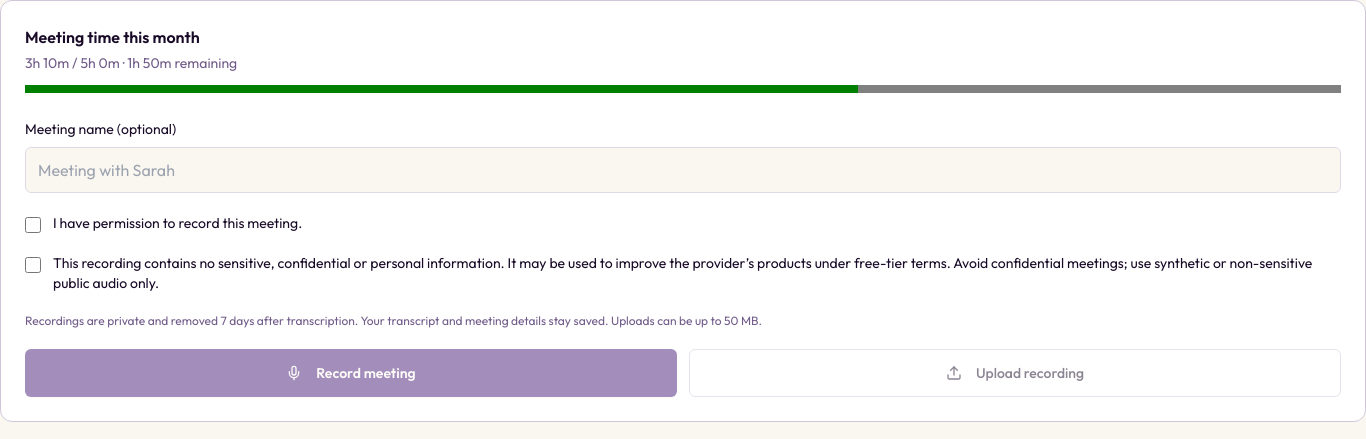
Test case: meeting capture › keeps recording and explains when live audio support is unavailable
The width and height of the screenshot is (1366, 439).
Expected: the text "3h 10m / 5h 0m · 1h 50m remaining" is shown, [25,54,237,72]
Step 1. Click the checkbox labelled "I have permission to record this meeting." → click(33, 225), box [25,217,41,233]
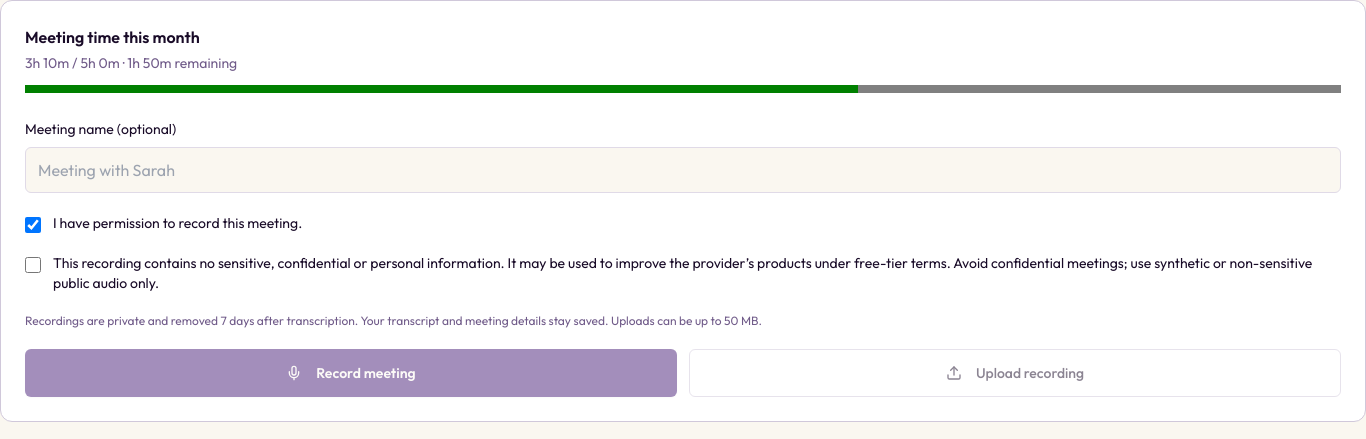
Step 2. Click the 2nd checkbox → click(33, 265), box [25,257,41,273]
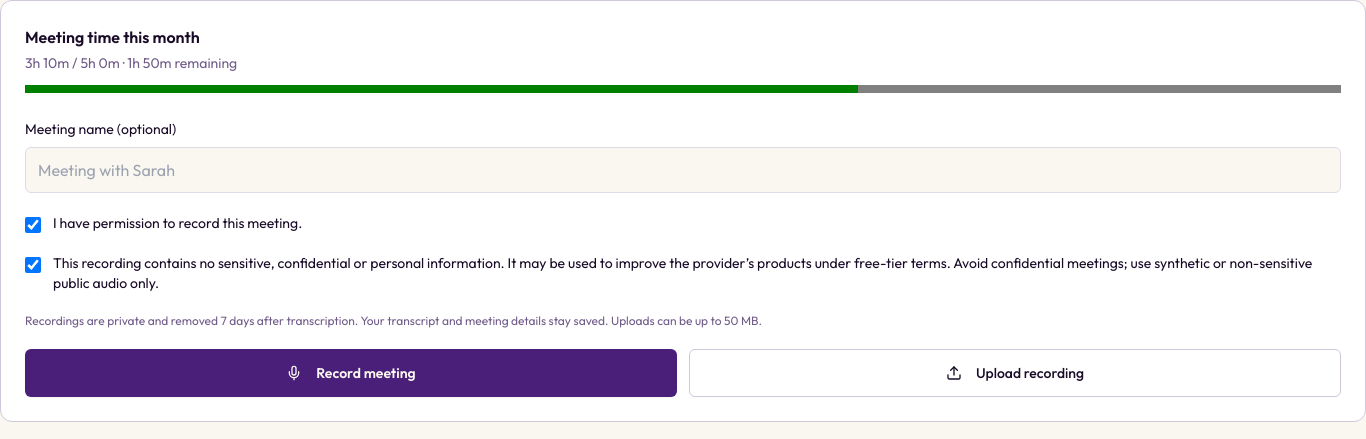
Step 3. Click the button "Record meeting" → click(351, 373), box [25,349,677,397]
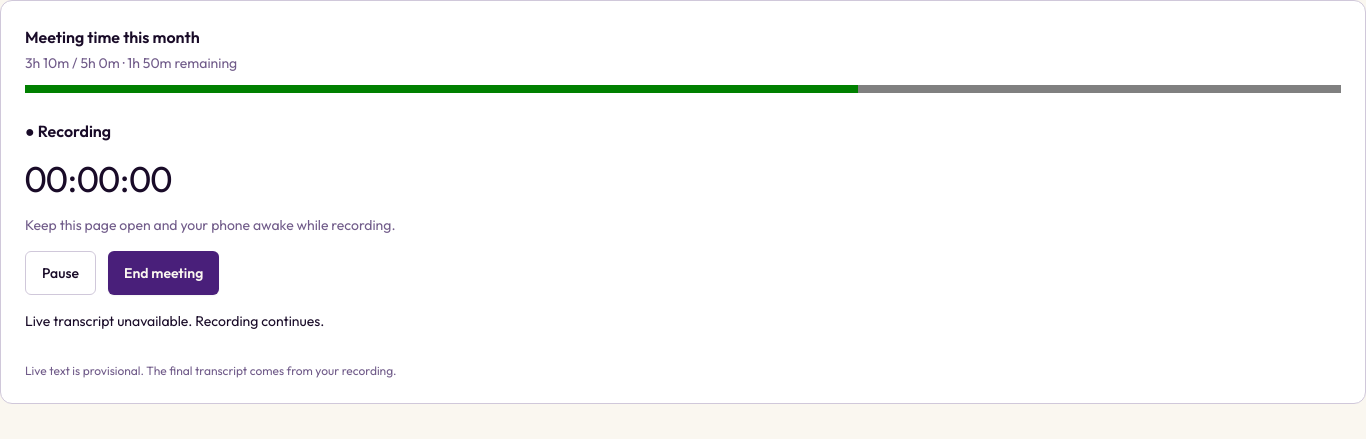
Result: the text "Live transcript unavailable. Recording continues." is shown at [25,312,324,330]
Result: the button "End meeting" is shown at [108,251,219,295]
